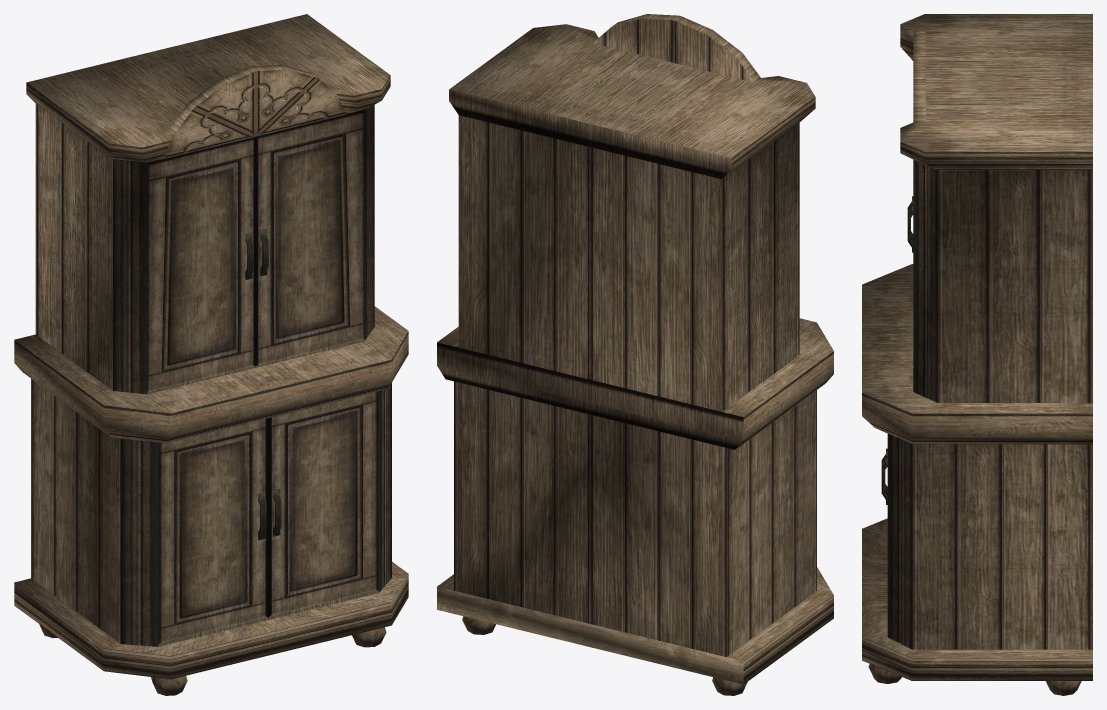
File: GS_CITY_CUPBOARD_YELLOW_02_KOZA.glb
3 renders of one model, left to right at view 1: azimuth 30°, elevation 25°; view 2: azimuth 150°, elevation 25°; view 3: azimuth 270°, elevation 25°, orthographic.
Parts seen in each view (by area): view 1: Mesh; view 2: Mesh; view 3: Mesh.
Boxes of the visible parts, x1,y1,x2,y2 form: Mesh: (14,14,408,695); Mesh: (437,14,833,695); Mesh: (862,14,1092,695).
Size of the model in its own units: 1.38 by 2.53 by 0.9.
Materials: 4 (4 with a texture image).
